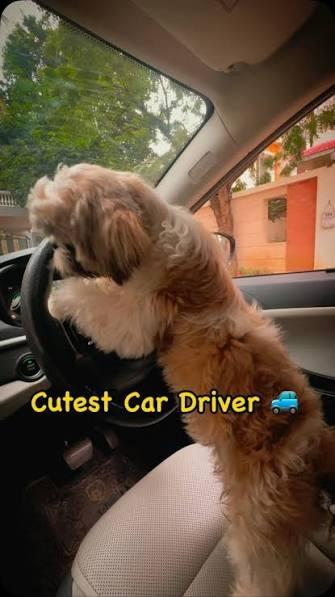adult_dog: (24, 163, 335, 597)
